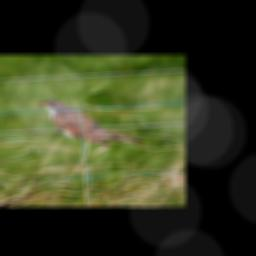Cuckoo: (36, 97, 146, 150)
